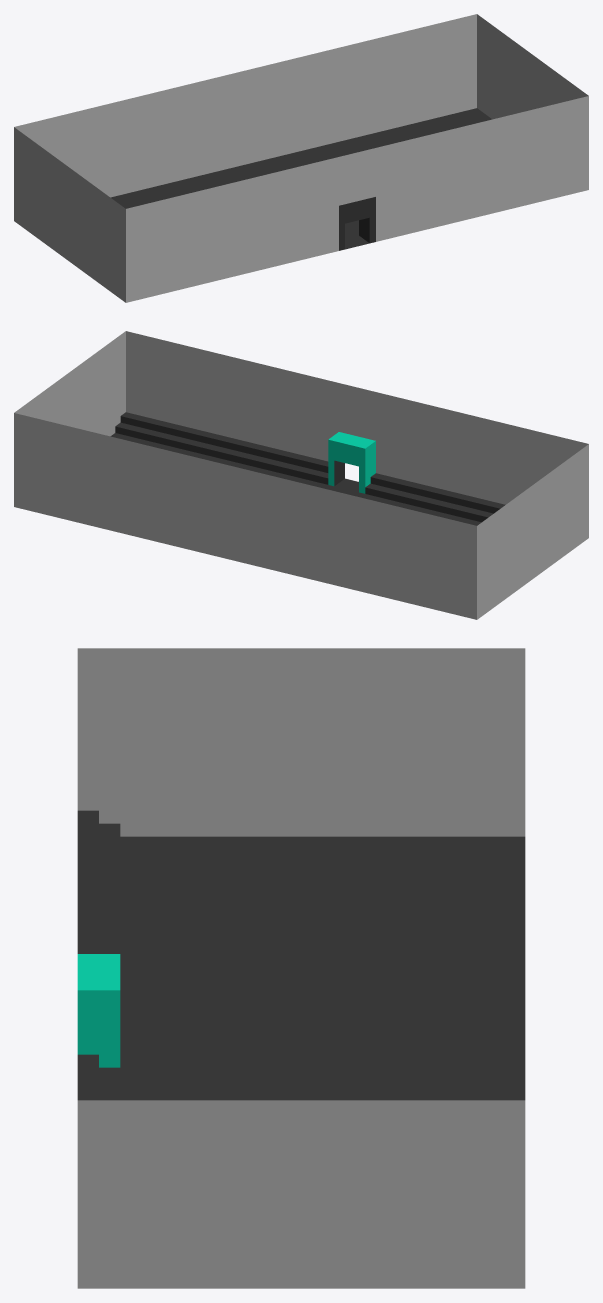
The model's file is Arena.fbx.
The picture shows the model from 3 angles, top to bottom: view 1: azimuth 30°, elevation 25°; view 2: azimuth 150°, elevation 25°; view 3: azimuth 270°, elevation 25°; orthographic projection. The views are drawn at different scales.
Parts seen in each view (by area): view 1: Group1, Group2; view 2: Group1, Group2; view 3: Group1, Group2.
Boxes of the visible parts, <box> form: Group1: <box>14,14,588,302</box>; Group2: <box>110,108,492,250</box>; Group1: <box>14,331,588,619</box>; Group2: <box>110,412,505,525</box>; Group1: <box>77,648,525,1288</box>; Group2: <box>77,810,525,1100</box>.
Size of the model in its own units: 7500 by 1456 by 3140.
